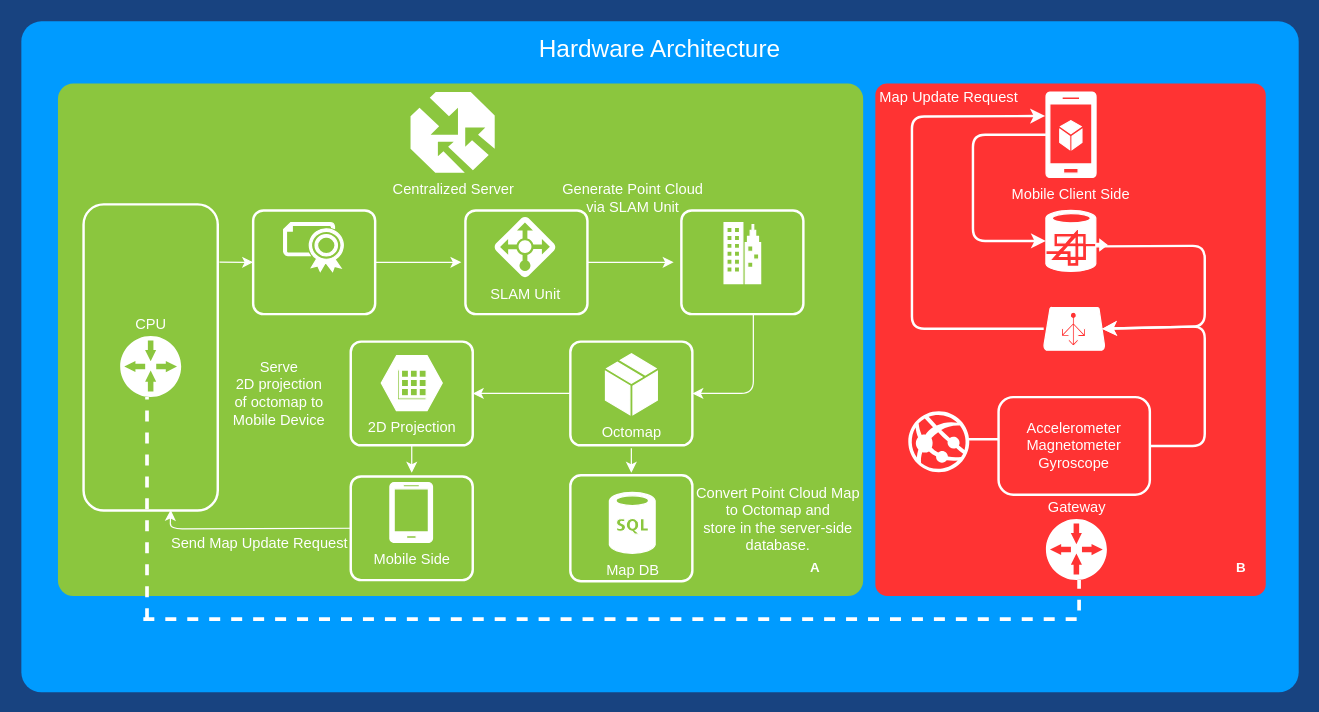
Image size: 1319x712. Some labels were removed from this diagram. The centre of each missing label's shape, as x and y in pixels:
Client Side Localization: (x=1076, y=240)
Depth Camera: (x=313, y=246)
Point Cloud Map: (x=742, y=252)
Sensors: (x=938, y=441)
Validate Map and Localize: (x=1073, y=328)
